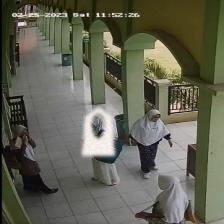Mukena: (82, 106, 114, 156)
